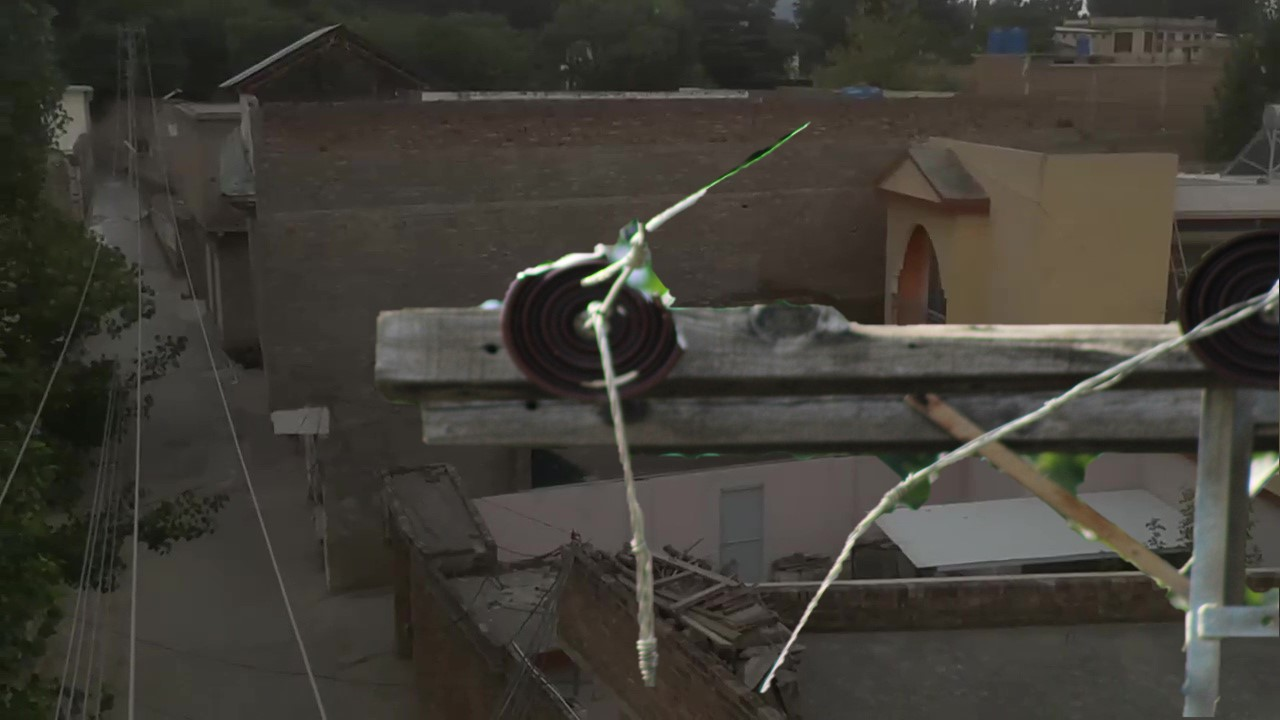defect_disc: (493, 240, 698, 403)
